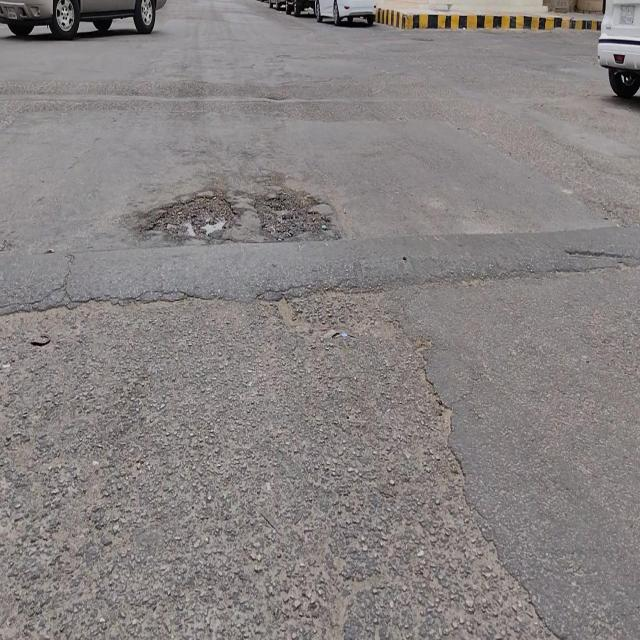Pothole: (143, 195, 239, 243), (253, 192, 328, 240)
